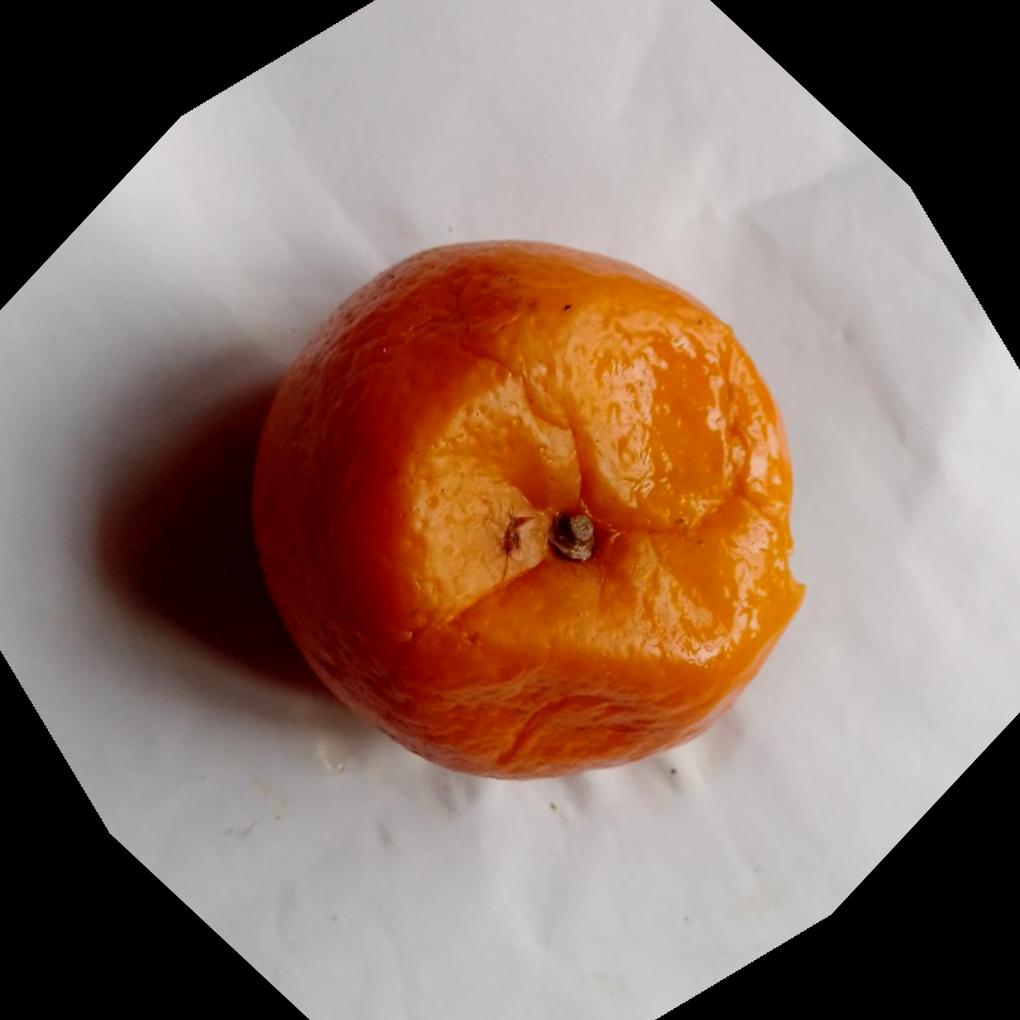FreshOrange: (248, 237, 809, 785)
